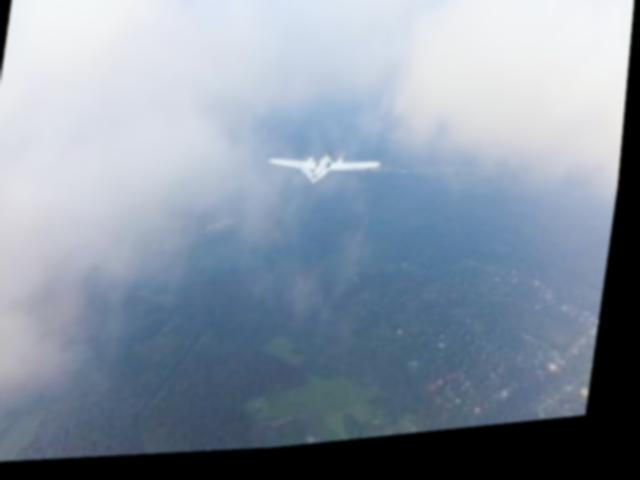uav: (266, 148, 389, 201)
